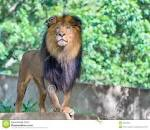lion: (17, 14, 86, 113)
